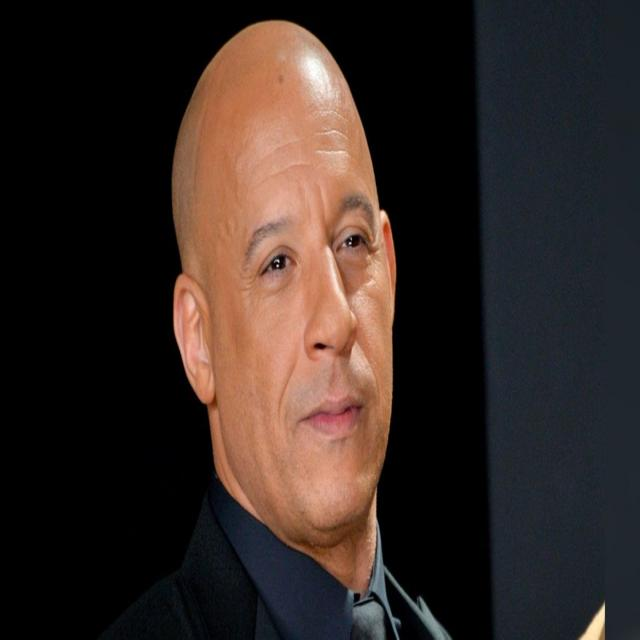bald: (158, 14, 394, 267)
